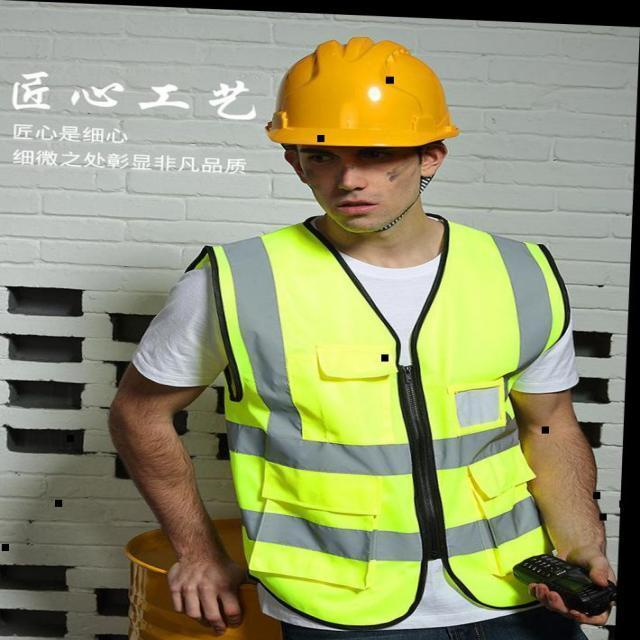safety_helmet: (134, 229, 568, 620)
